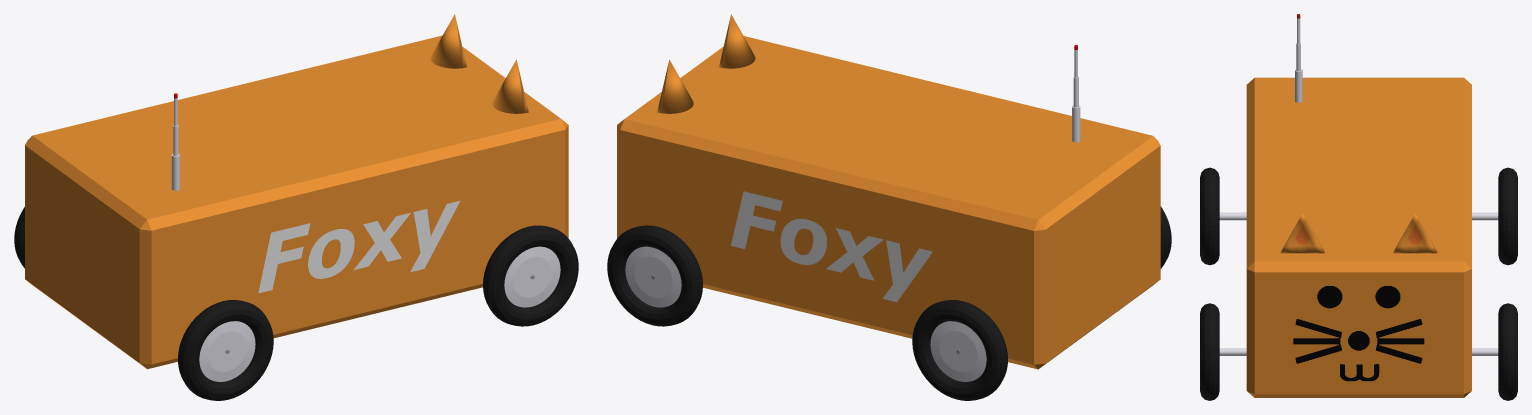
Rendered from Foxy.fbx.
3 renders of one model, left to right at view 1: azimuth 30°, elevation 25°; view 2: azimuth 150°, elevation 25°; view 3: azimuth 270°, elevation 25°, orthographic. The views are drawn at different scales.
Visible parts, largest first — view 1: Body, FRWheel, BRWheel, FoxyTextLeft, Ears; view 2: Body, FLWheel, BLWheel, FoxyTextRight, Ears, BRWheel; view 3: Body, Fox_face, Ears, BLWheel, BRWheel, FLWheel, FRWheel.
Part boxes in pixels (x1,y1,x2,y2): Body: [25, 35, 568, 369]; FRWheel: [483, 225, 578, 326]; BRWheel: [178, 300, 273, 400]; FoxyTextLeft: [258, 200, 460, 293]; Ears: [430, 14, 528, 113]; Body: [617, 36, 1160, 369]; FLWheel: [607, 225, 702, 326]; BLWheel: [912, 300, 1007, 400]; FoxyTextRight: [731, 191, 932, 302]; Ears: [657, 14, 755, 113]; BRWheel: [1160, 206, 1171, 268]; Body: [1246, 77, 1471, 397]; Fox_face: [1293, 285, 1424, 381]; Ears: [1280, 213, 1437, 253]; BLWheel: [1498, 167, 1517, 265]; BRWheel: [1200, 167, 1219, 265]; FLWheel: [1498, 303, 1517, 400]; FRWheel: [1200, 303, 1219, 400].
Size of the model in its own units: 60.03 by 36.05 by 42.28.
Materials: 7 (1 with a texture image).
